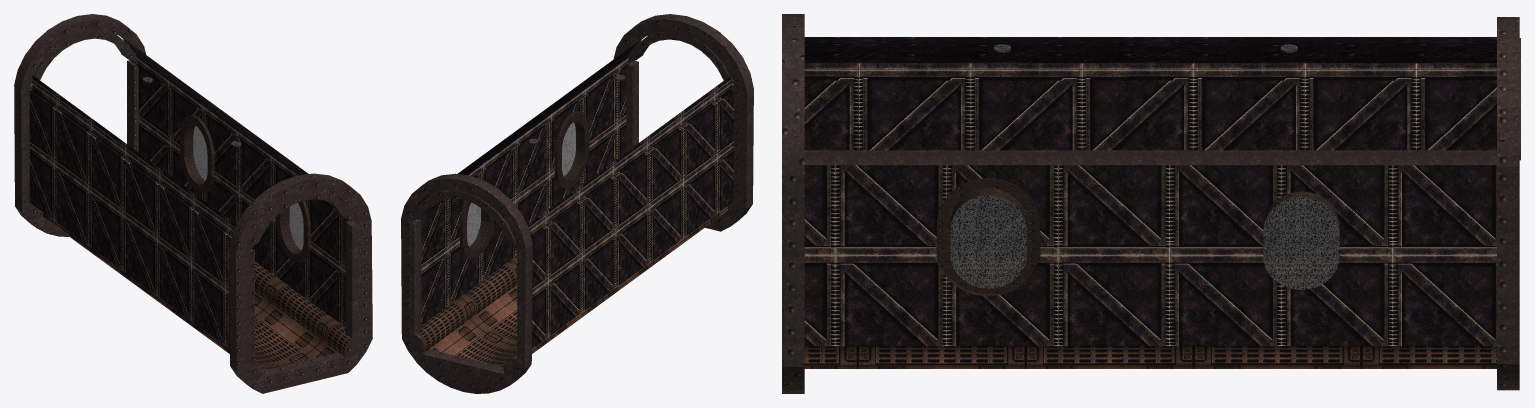
Rendered from pasillo2.fbx.
The picture shows the model from 3 angles, left to right: view 1: azimuth 30°, elevation 25°; view 2: azimuth 150°, elevation 25°; view 3: azimuth 270°, elevation 25°; orthographic projection. The views are drawn at different scales.
Visible parts, largest first — view 1: Model; view 2: Model; view 3: Model.
Boxes of the visible parts, bbox=[...] form: Model: bbox=[14, 14, 372, 393]; Model: bbox=[401, 14, 753, 393]; Model: bbox=[782, 14, 1520, 393].
Size of the model in its own units: 2.16 by 3.24 by 6.2.
